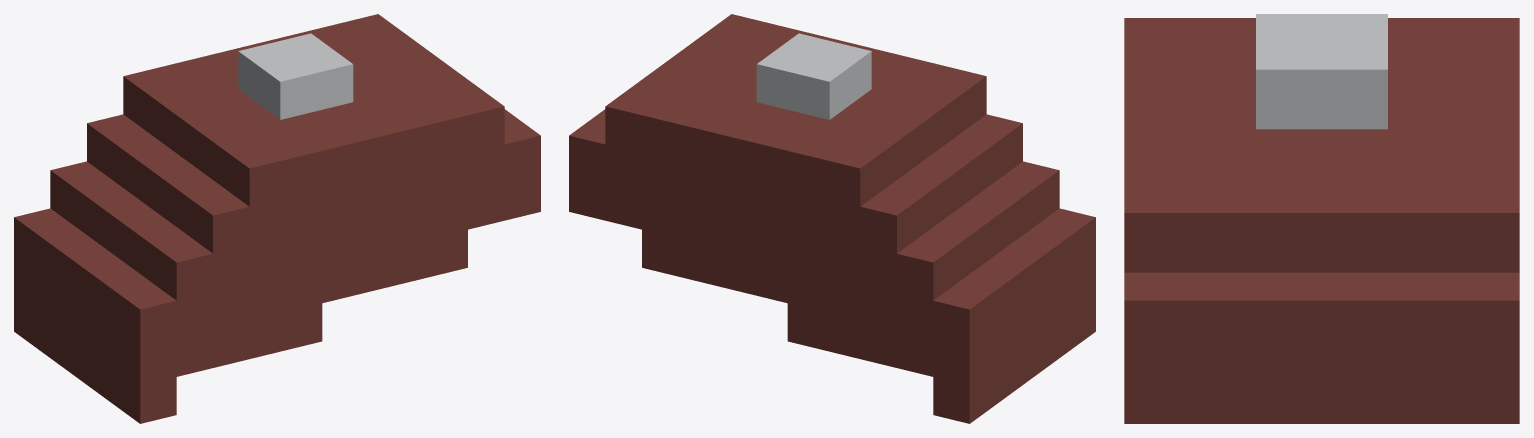
File: chopper_tank.glb
The picture shows the model from 3 angles, left to right: view 1: azimuth 30°, elevation 25°; view 2: azimuth 150°, elevation 25°; view 3: azimuth 270°, elevation 25°; orthographic projection. The views are drawn at different scales.
Parts seen in each view (by area): view 1: body:compound; view 2: body:compound; view 3: body:compound.
Boxes of the visible parts, x1,y1,x2,y2 form: body:compound: (14, 14, 540, 423); body:compound: (569, 14, 1095, 423); body:compound: (1124, 14, 1519, 423).
Bounding box in the file's own units: 0.3438 × 0.2188 × 0.1875.
